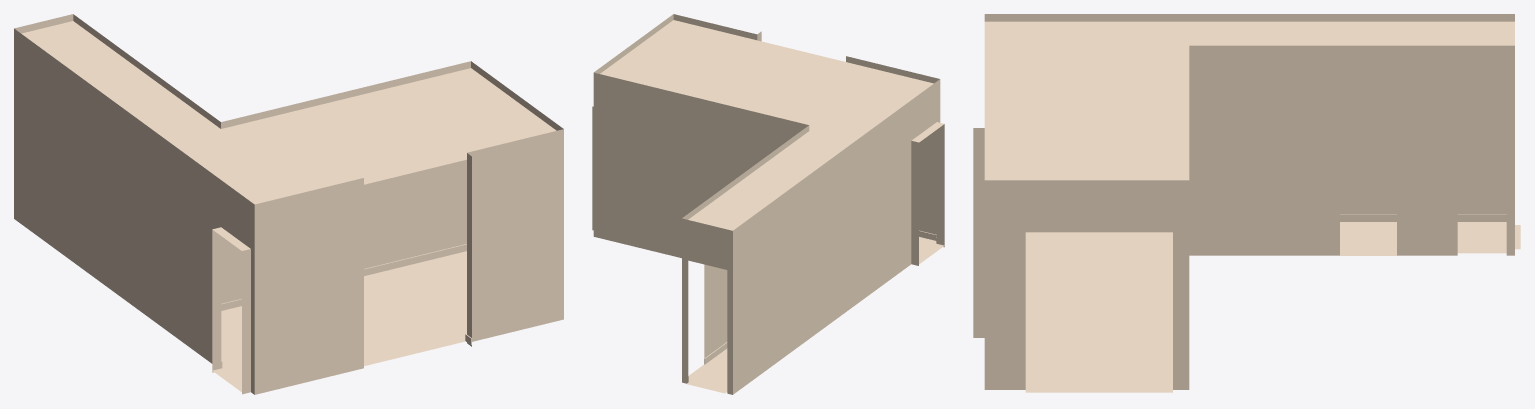
Rendered from SD_Estrutura_Sala.fbx.
3 views of the same model, side by side, from view 1: azimuth 30°, elevation 25°; view 2: azimuth 150°, elevation 25°; view 3: azimuth 270°, elevation 25° (orthographic). The views are drawn at different scales.
Visible parts, largest first — view 1: SD_Estrutura_Sala; view 2: SD_Estrutura_Sala; view 3: SD_Estrutura_Sala.
Boxes of the visible parts, x1,y1,x2,y2 form: SD_Estrutura_Sala: [14, 14, 563, 394]; SD_Estrutura_Sala: [592, 14, 944, 394]; SD_Estrutura_Sala: [973, 14, 1520, 392].
Bounding box in the file's own units: 509 × 283 × 669.
